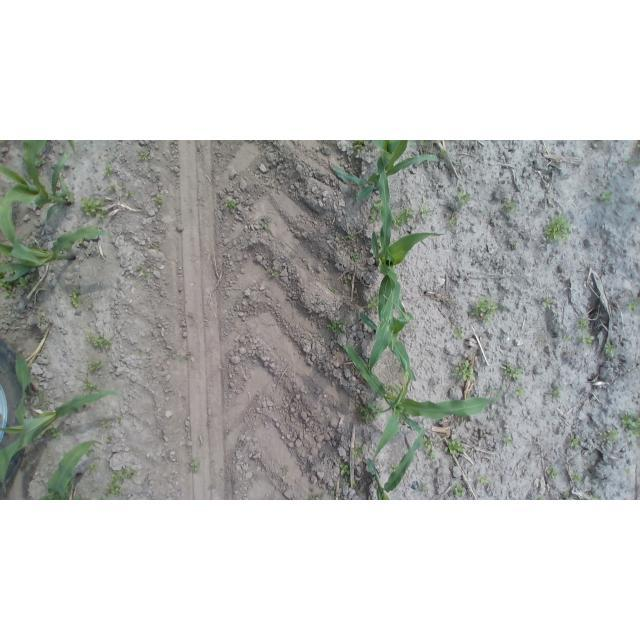Maize: (1, 354, 124, 494), (341, 346, 504, 437), (368, 155, 446, 321), (1, 141, 78, 248), (359, 276, 418, 415), (1, 228, 124, 285), (357, 141, 442, 201), (369, 422, 428, 500), (40, 440, 104, 500)
Weeds: (544, 214, 572, 242), (470, 297, 499, 324), (80, 197, 108, 220), (357, 401, 383, 424), (84, 332, 113, 352), (620, 412, 638, 441), (453, 359, 475, 381), (393, 206, 413, 230), (502, 363, 523, 382), (104, 477, 124, 496), (113, 466, 138, 481), (17, 275, 38, 292), (1, 275, 17, 297), (444, 439, 465, 455), (599, 428, 620, 444), (370, 199, 383, 224), (327, 319, 347, 334), (424, 440, 437, 461), (88, 358, 105, 374), (455, 190, 471, 206), (82, 379, 101, 392), (70, 291, 83, 310), (603, 342, 617, 358), (600, 188, 614, 204), (626, 298, 639, 315), (576, 317, 591, 331), (352, 140, 369, 152), (452, 483, 466, 497), (387, 384, 402, 397), (47, 426, 62, 439), (223, 198, 238, 211), (548, 386, 562, 399), (338, 462, 351, 476), (569, 435, 581, 450), (352, 444, 364, 459), (581, 334, 596, 346), (367, 296, 378, 312), (505, 199, 518, 212), (135, 266, 149, 278), (189, 460, 201, 473), (138, 150, 151, 162), (502, 434, 514, 447), (103, 163, 114, 177), (548, 465, 559, 479), (260, 217, 271, 230), (421, 205, 430, 220), (101, 416, 112, 428), (543, 297, 555, 308), (349, 251, 361, 262), (454, 327, 464, 340), (155, 194, 165, 207), (89, 463, 100, 474), (36, 157, 47, 168), (166, 349, 178, 359), (306, 493, 322, 500), (572, 473, 582, 484), (478, 474, 489, 484), (516, 387, 527, 397), (85, 446, 94, 458), (388, 463, 398, 473), (346, 234, 357, 243), (63, 193, 75, 201), (588, 492, 600, 500), (626, 157, 638, 165), (561, 490, 571, 499), (419, 484, 429, 493), (280, 466, 289, 476), (448, 216, 456, 227), (562, 334, 571, 343), (119, 183, 128, 192), (108, 184, 117, 193), (268, 269, 277, 278), (125, 188, 134, 197), (358, 483, 366, 493), (486, 385, 495, 393), (439, 149, 446, 158), (511, 242, 518, 250), (345, 277, 352, 285), (331, 488, 338, 496), (112, 154, 120, 161), (329, 286, 337, 293), (107, 436, 114, 444), (86, 303, 93, 310), (537, 495, 546, 500), (420, 140, 427, 146)
